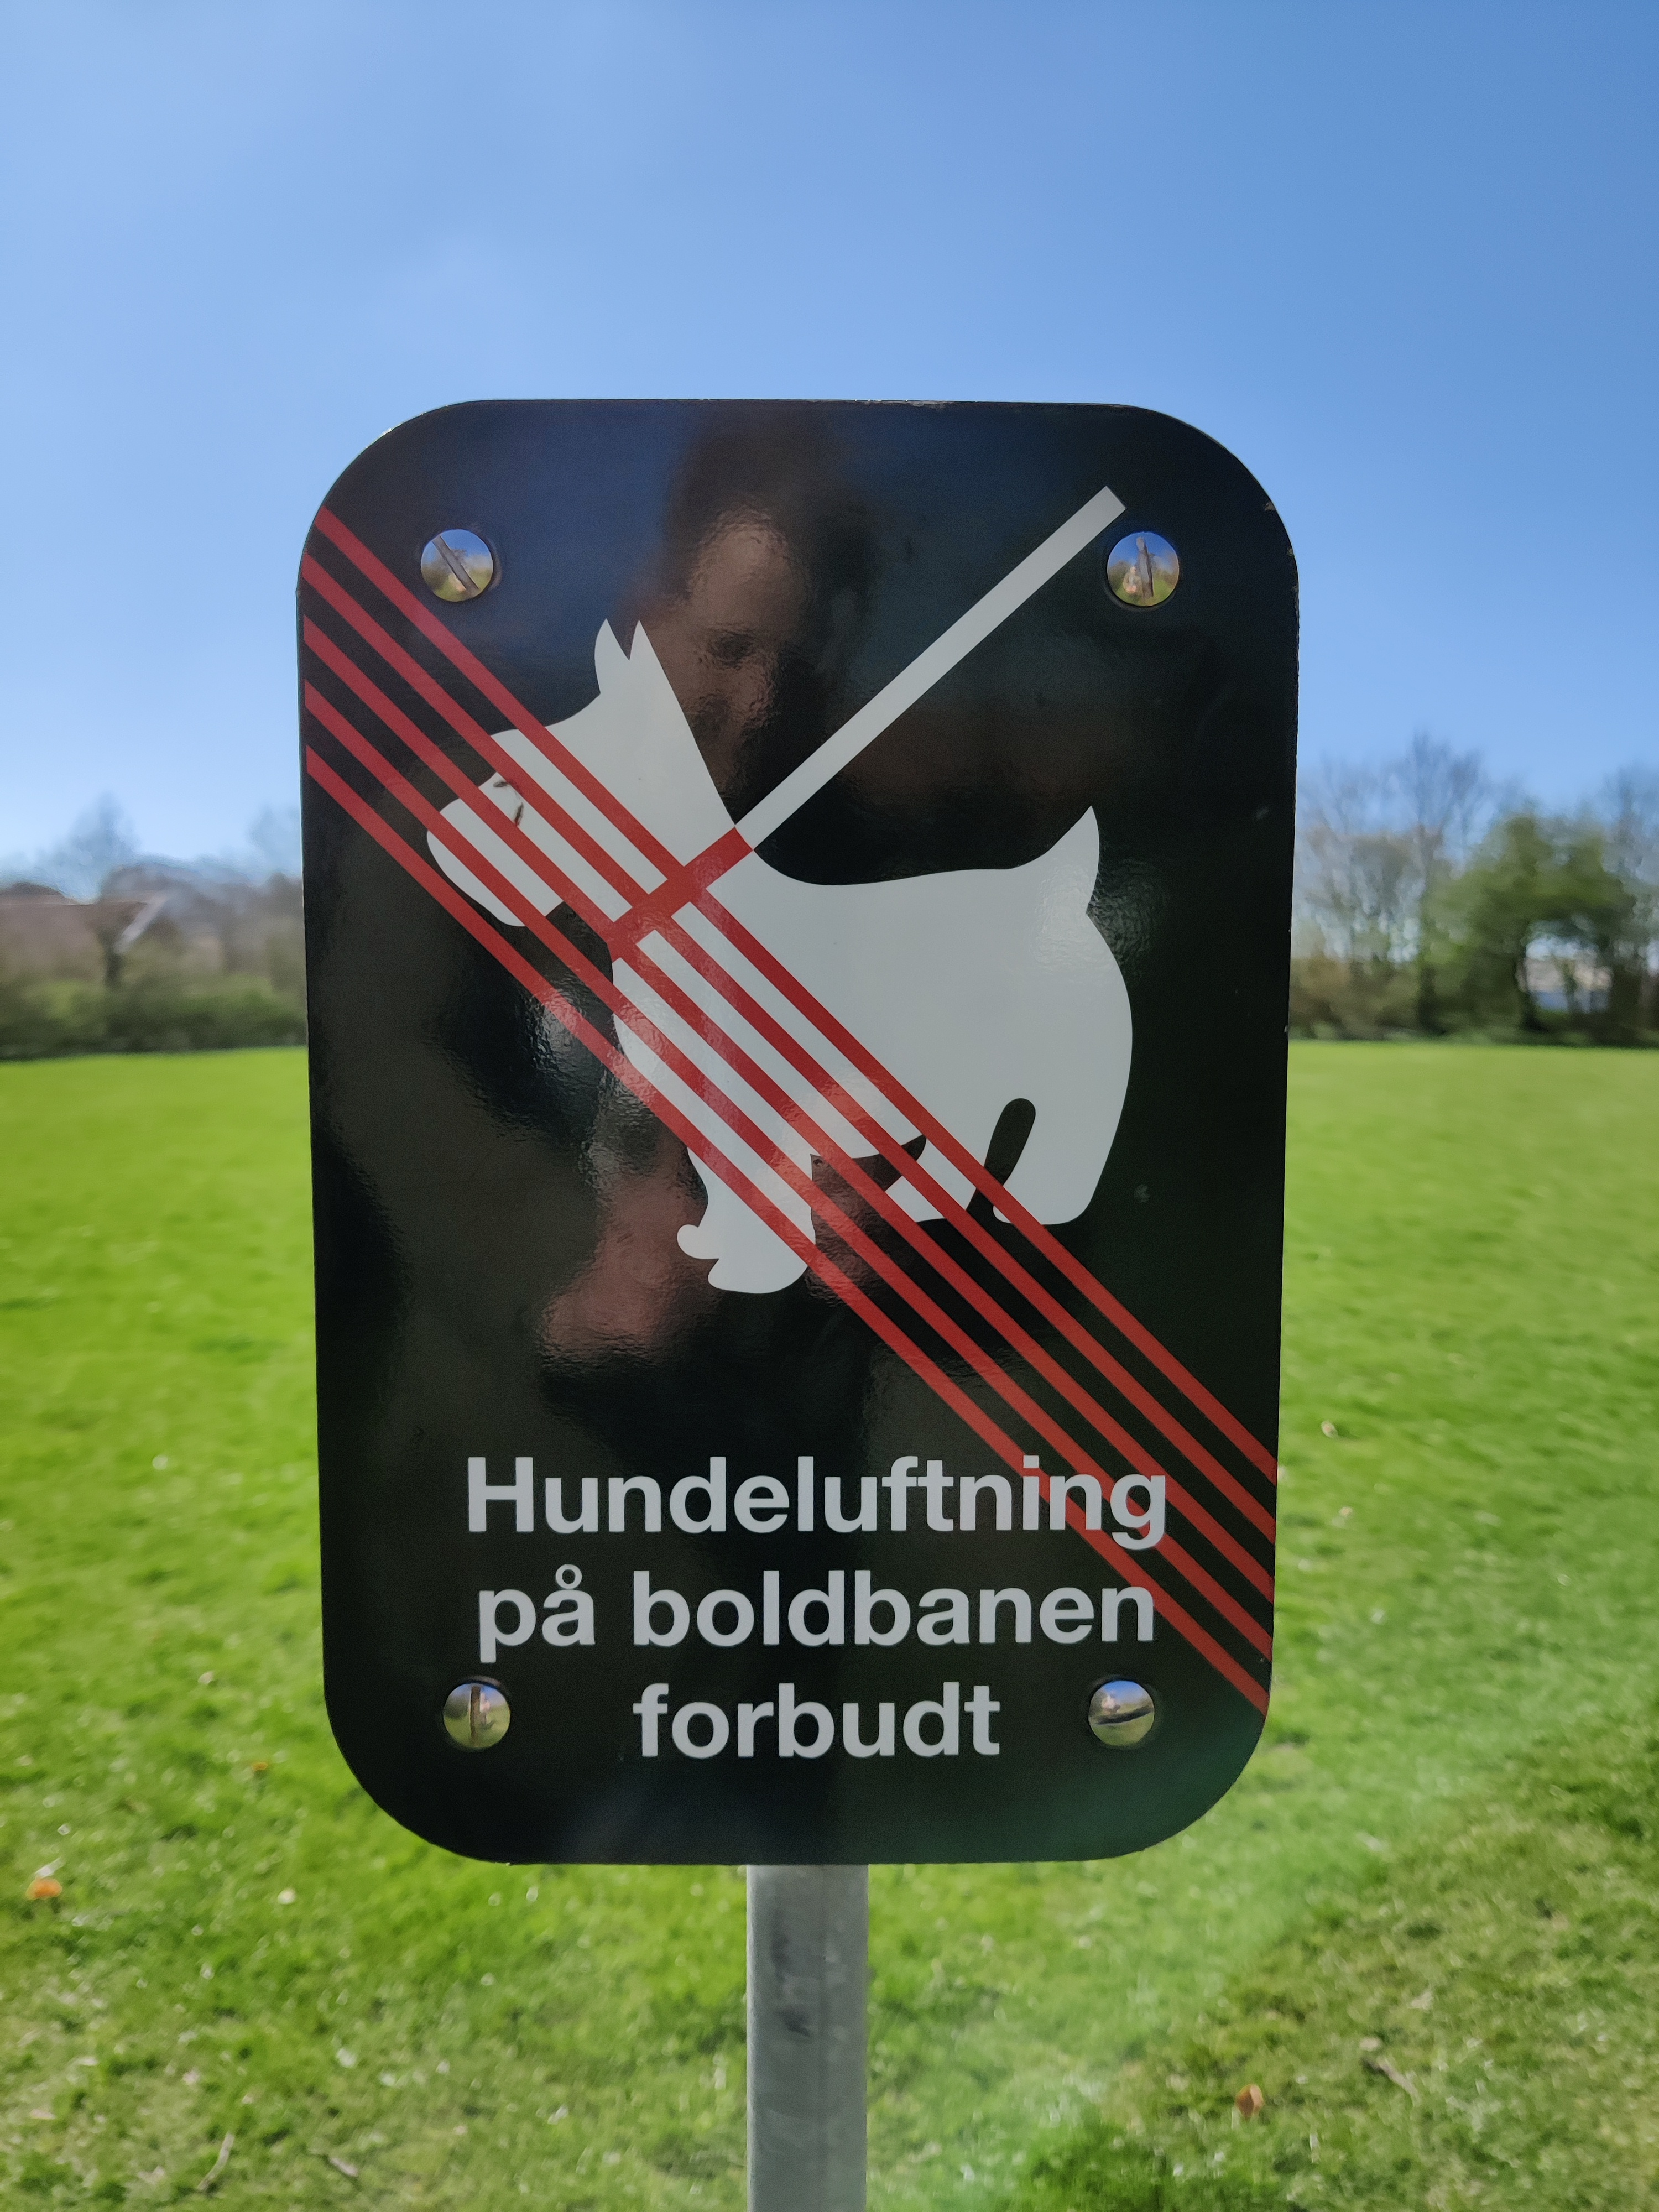Dog: (423, 608, 1141, 1292)
